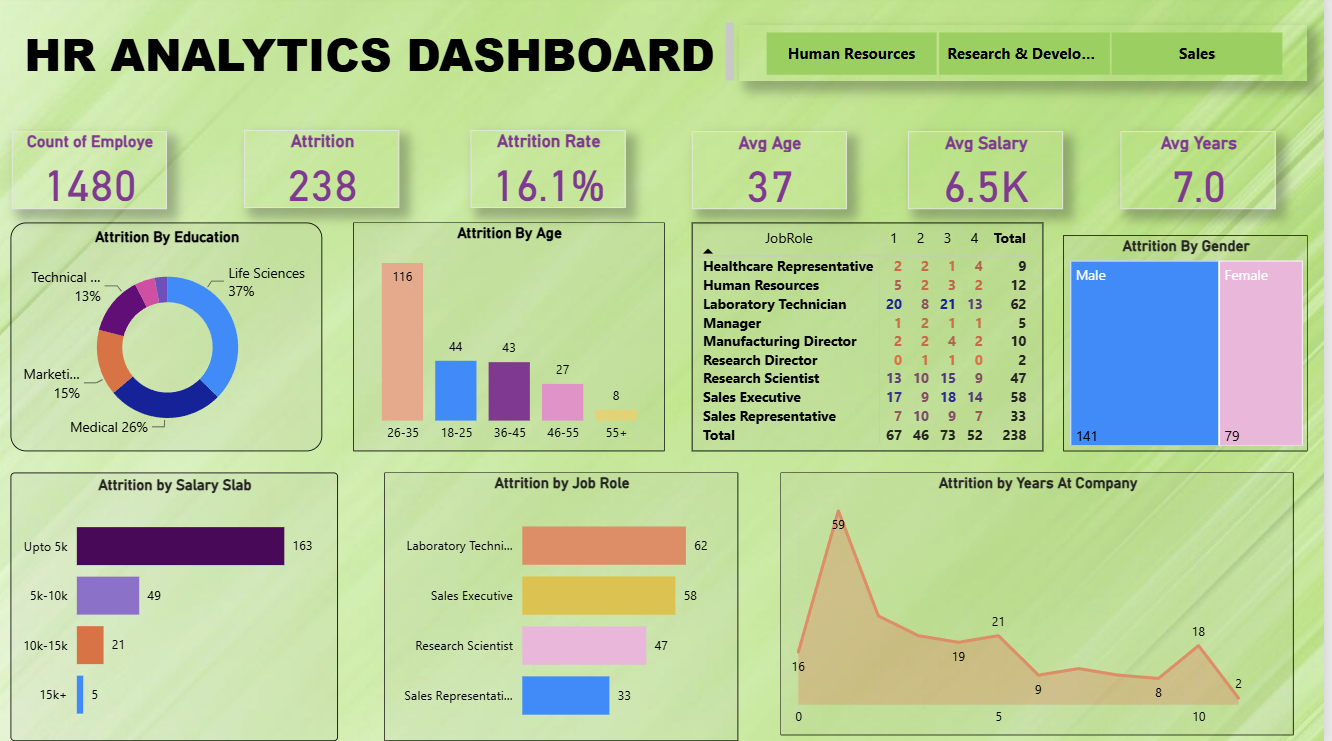

The page's visual inventory and layout, read from the dashboard file:
{"tool":"powerbi","page":{"name":"Page 1","canvas":[1280,720],"ordinal":0},"visuals":[{"type":"card","title":"Count of Employe","fields":{"Values":["CountNonNull(HR_Analytics.EmpID)"]},"box":[13.7,131.7,149.6,75.5],"z":0},{"type":"card","title":"Attrition","fields":{"Values":["Sum(HR_Analytics.Attrition Count)"]},"box":[237.4,130.4,149.6,75.5],"z":1000},{"type":"card","title":"Attrition Rate","fields":{"Values":["HR_Analytics.AttritionRate"]},"box":[455.6,130.4,149.6,75.5],"z":2000},{"type":"card","title":"Avg Age","fields":{"Values":["Avg(HR_Analytics.Age)"]},"box":[669.6,131.7,149.6,75.5],"z":3000},{"type":"card","title":"Avg Salary","fields":{"Values":["Avg(HR_Analytics.MonthlyIncome)"]},"box":[878.2,131.7,149.6,75.5],"z":4000},{"type":"card","title":"Avg Years","fields":{"Values":["Avg(HR_Analytics.YearsAtCompany)"]},"box":[1082.7,131.7,149.6,75.5],"z":5000},{"type":"donutChart","title":"Attrition By Education","fields":{"Category":["HR_Analytics.EducationField"],"Y":["Sum(HR_Analytics.Attrition Count)"]},"box":[12.3,219.6,300.5,220.9],"z":6000},{"type":"columnChart","title":"Attrition By Age","fields":{"Category":["HR_Analytics.AgeGroup"],"Y":["Sum(HR_Analytics.Attrition Count)"]},"box":[343.1,219.6,300.5,220.9],"z":7000},{"type":"pivotTable","fields":{"Rows":["HR_Analytics.JobRole"],"Columns":["HR_Analytics.JobSatisfaction"],"Values":["Sum(HR_Analytics.Attrition Count)"]},"box":[669.6,219.6,338.9,220.9],"z":8000},{"type":"barChart","title":"Attrition by Salary Slab","fields":{"Category":["HR_Analytics.SalarySlab"],"Y":["Sum(HR_Analytics.Attrition Count)"]},"box":[12.3,461.1,315.6,259.3],"z":9000},{"type":"barChart","title":"Attrition by Job Role","fields":{"Category":["HR_Analytics.JobRole"],"Y":["Sum(HR_Analytics.Attrition Count)"]},"box":[373.2,461.1,341.7,259.3],"z":10000},{"type":"areaChart","title":"Attrition by Years At Company","fields":{"Category":["HR_Analytics.YearsAtCompany"],"Y":["Sum(HR_Analytics.Attrition Count)"]},"box":[754.7,461.1,495.4,253.9],"z":11000},{"type":"treemap","title":"Attrition By Gender","fields":{"Group":["HR_Analytics.Gender"],"Values":["Sum(HR_Analytics.Attrition Count)"]},"box":[1027.8,231.9,236,208.6],"z":12000},{"type":"slicer","fields":{"Values":["HR_Analytics.Department"]},"box":[715.4,28.5,548,54.7],"z":13000},{"type":"textbox","box":[11.4,21.6,704.1,68.4],"z":14000}]}

Visuals, with their boxes in screenshot pixels (x1, y1, x2, y2), scaled from the page's 1280x720 canvas onto the 1332x741 screenshot:
"Count of Employe" card: Rect(14, 136, 170, 213)
"Attrition" card: Rect(247, 134, 403, 212)
"Attrition Rate" card: Rect(474, 134, 630, 212)
"Avg Age" card: Rect(697, 136, 852, 213)
"Avg Salary" card: Rect(914, 136, 1070, 213)
"Avg Years" card: Rect(1127, 136, 1282, 213)
"Attrition By Education" donutChart: Rect(13, 226, 326, 453)
"Attrition By Age" columnChart: Rect(357, 226, 670, 453)
pivotTable - HR_Analytics.JobRole x HR_Analytics.JobSatisfaction: Rect(697, 226, 1049, 453)
"Attrition by Salary Slab" barChart: Rect(13, 475, 341, 740)
"Attrition by Job Role" barChart: Rect(388, 475, 744, 740)
"Attrition by Years At Company" areaChart: Rect(785, 475, 1301, 736)
"Attrition By Gender" treemap: Rect(1070, 239, 1315, 453)
slicer - HR_Analytics.Department: Rect(744, 29, 1315, 86)
textbox: Rect(12, 22, 745, 93)
